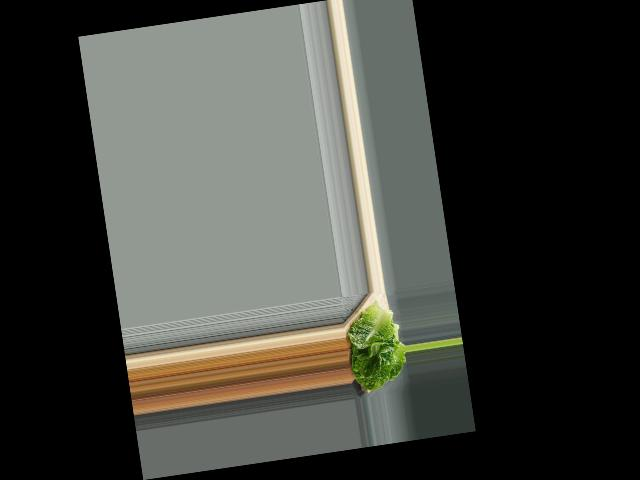lettuce: (340, 301, 410, 396)
